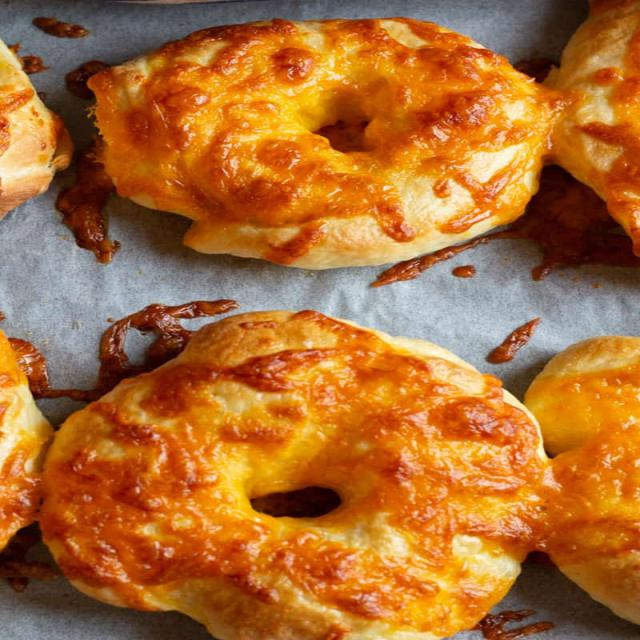Bagel: (39, 311, 551, 640), (88, 0, 639, 269)
